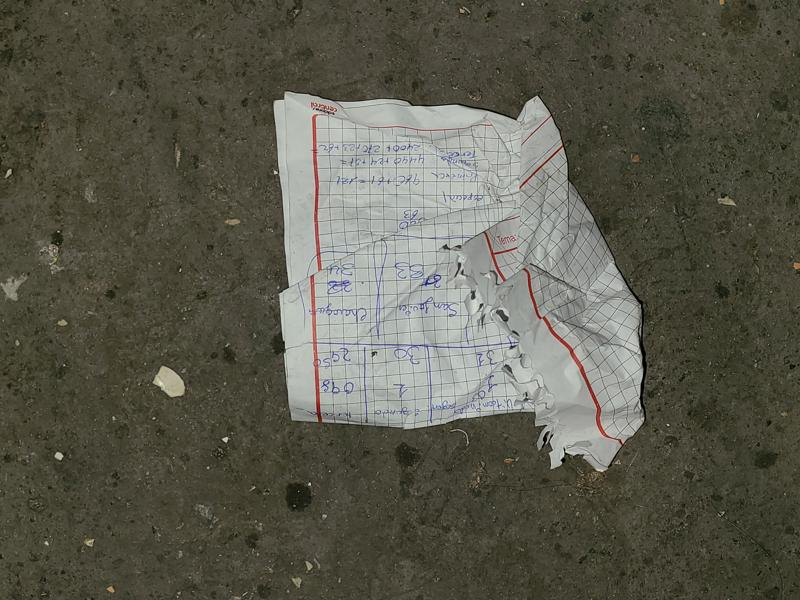papel: (273, 95, 645, 473)
